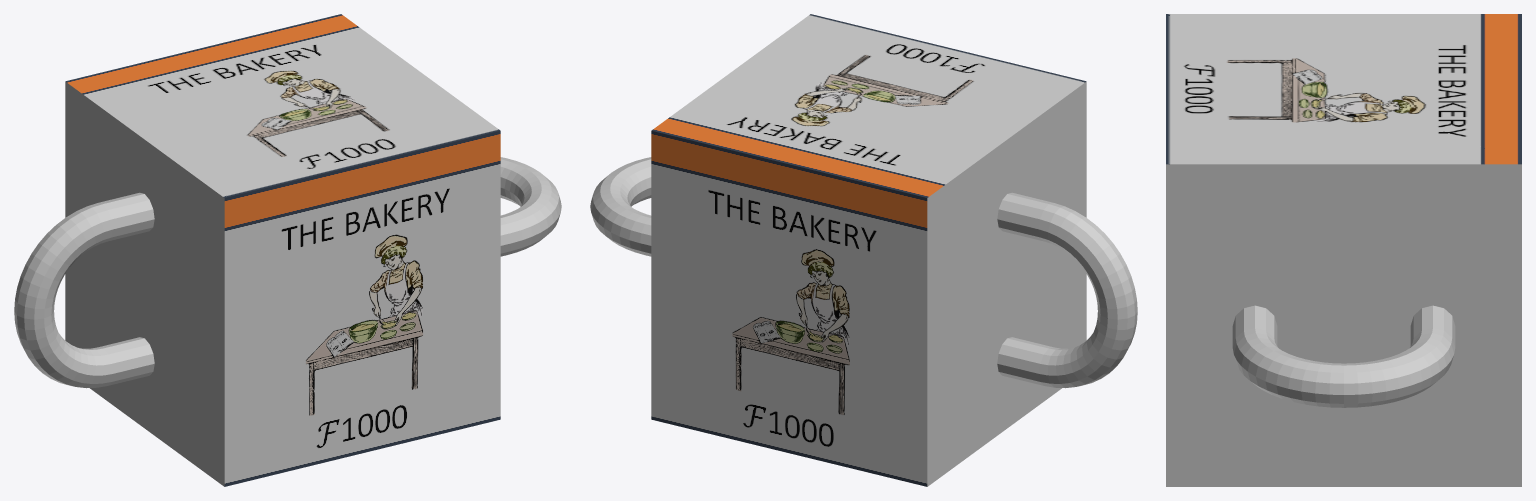
The model's file is chainblock_bakery.glb.
The picture shows the model from 3 angles, left to right: view 1: azimuth 30°, elevation 25°; view 2: azimuth 150°, elevation 25°; view 3: azimuth 270°, elevation 25°; orthographic projection. The views are drawn at different scales.
Visible parts, largest first — view 1: Torus.045; view 2: Torus.045; view 3: Torus.045.
Part boxes in pixels (x1,y1,x2,y2): Torus.045: (14,14,561,486); Torus.045: (590,14,1137,486); Torus.045: (1166,14,1521,486).
Size of the model in its own units: 2.31 by 1.2 by 1.2.
2 materials, 1 textured.
